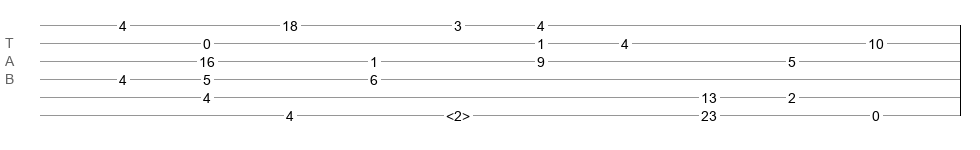0: (203, 36, 211, 46), (872, 108, 880, 118)
1: (370, 54, 378, 64), (537, 36, 545, 46)
10: (868, 36, 884, 46)
13: (701, 90, 717, 100)
16: (199, 54, 215, 64)
18: (282, 18, 298, 28)
2: (788, 90, 796, 100)
23: (701, 108, 717, 118)
3: (454, 18, 462, 28)
4: (119, 72, 127, 82), (119, 18, 127, 28), (203, 90, 211, 100), (286, 108, 294, 118), (537, 18, 545, 28), (621, 36, 629, 46)
5: (203, 72, 211, 82), (788, 54, 796, 64)
6: (370, 72, 378, 82)
9: (537, 54, 545, 64)
harmonic: (446, 108, 470, 118)
